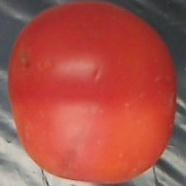unripe: (6, 0, 178, 186)
